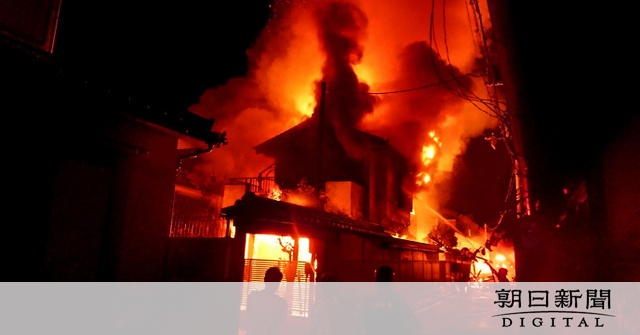Fire: (248, 234, 311, 264)
Smoke: (311, 14, 370, 115), (397, 50, 478, 104)
